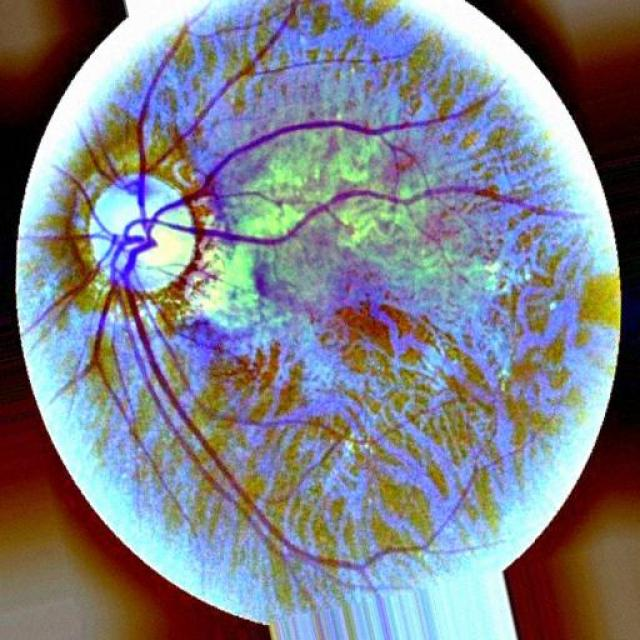Nerves: (114, 216, 156, 279)
Optic Disk: (138, 225, 192, 274), (95, 186, 140, 234)
